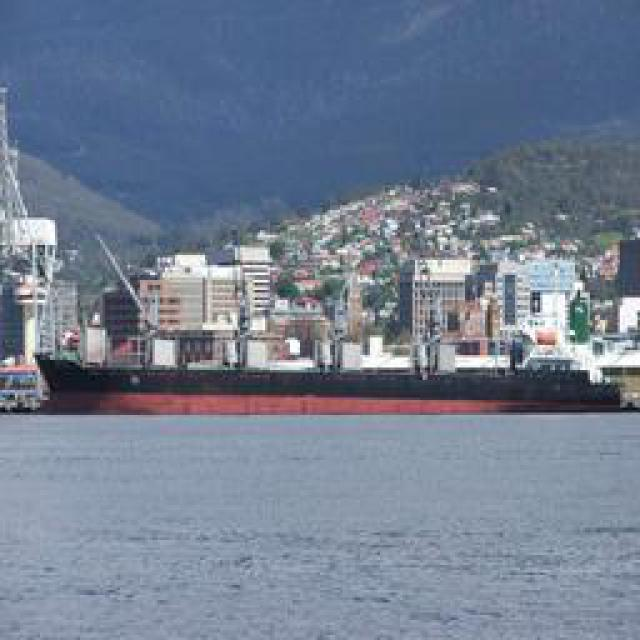Ship: (38, 212, 629, 419)
